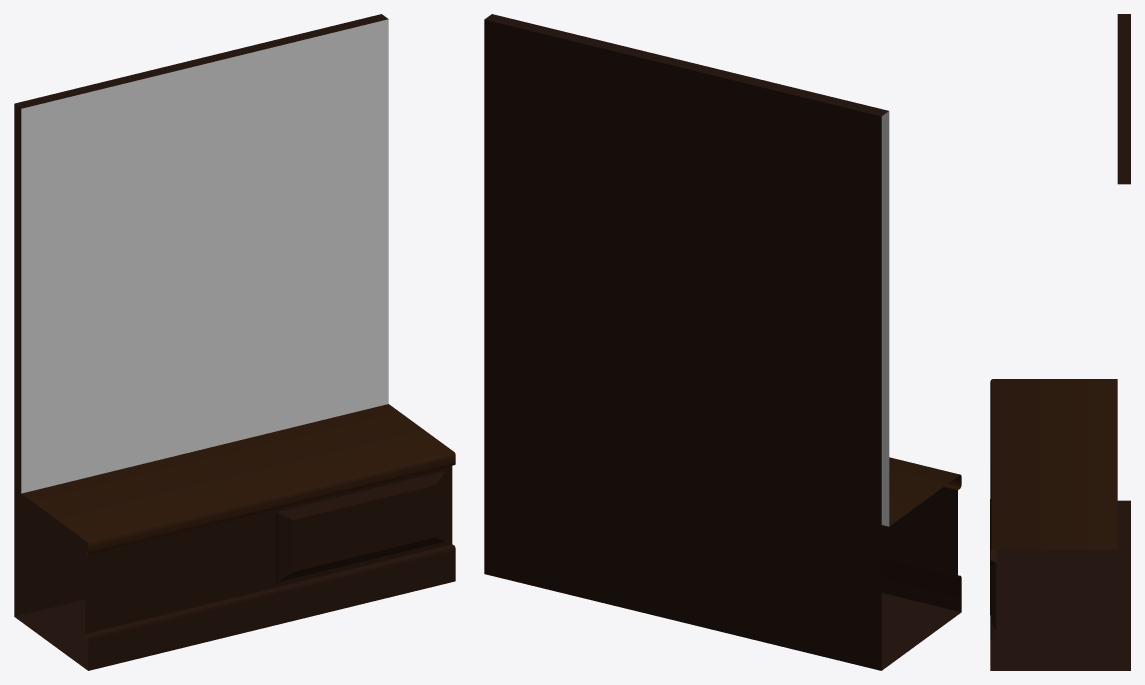
The model's file is SM_Murodoble.fbx.
3 renders of one model, left to right at view 1: azimuth 30°, elevation 25°; view 2: azimuth 150°, elevation 25°; view 3: azimuth 270°, elevation 25°, orthographic. The views are drawn at different scales.
Visible parts, largest first — view 1: Object001, Modulo 3x3 A.005; view 2: Modulo 3x3 A.005, Object001; view 3: Modulo 3x3 A.005.
Boxes of the visible parts, x1=… form: Object001: x1=21, y1=19, x2=388, y2=493; Modulo 3x3 A.005: x1=14, y1=14, x2=455, y2=670; Modulo 3x3 A.005: x1=484, y1=14, x2=961, y2=670; Object001: x1=881, y1=111, x2=889, y2=526; Modulo 3x3 A.005: x1=990, y1=14, x2=1130, y2=670.
Size of the model in its own units: 236 by 315 by 82.6.
